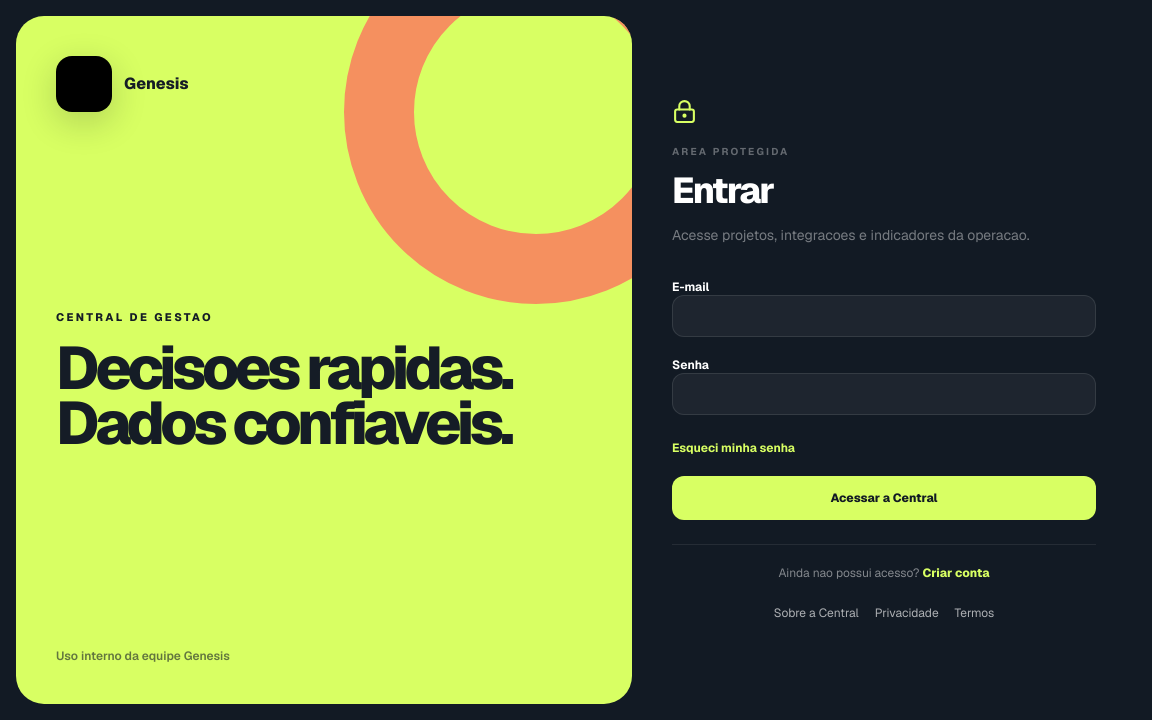
Test: password recovery request › displays delivery failures instead of claiming an email was sent
This screenshot has width=1152, height=720.
In the field labelled "E-mail": coordinates (884, 316) [672,295,1096,337], type "internal@example.com"
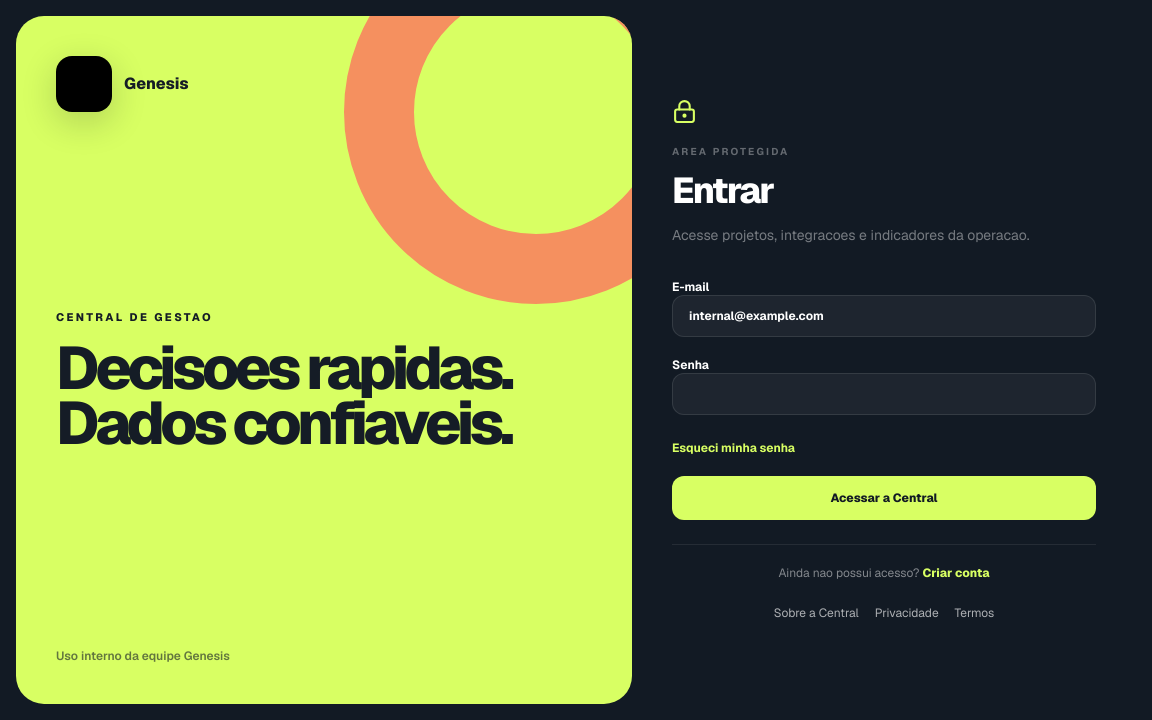
Click the button "Esqueci minha senha": coordinates (734, 448) [672,440,795,456]
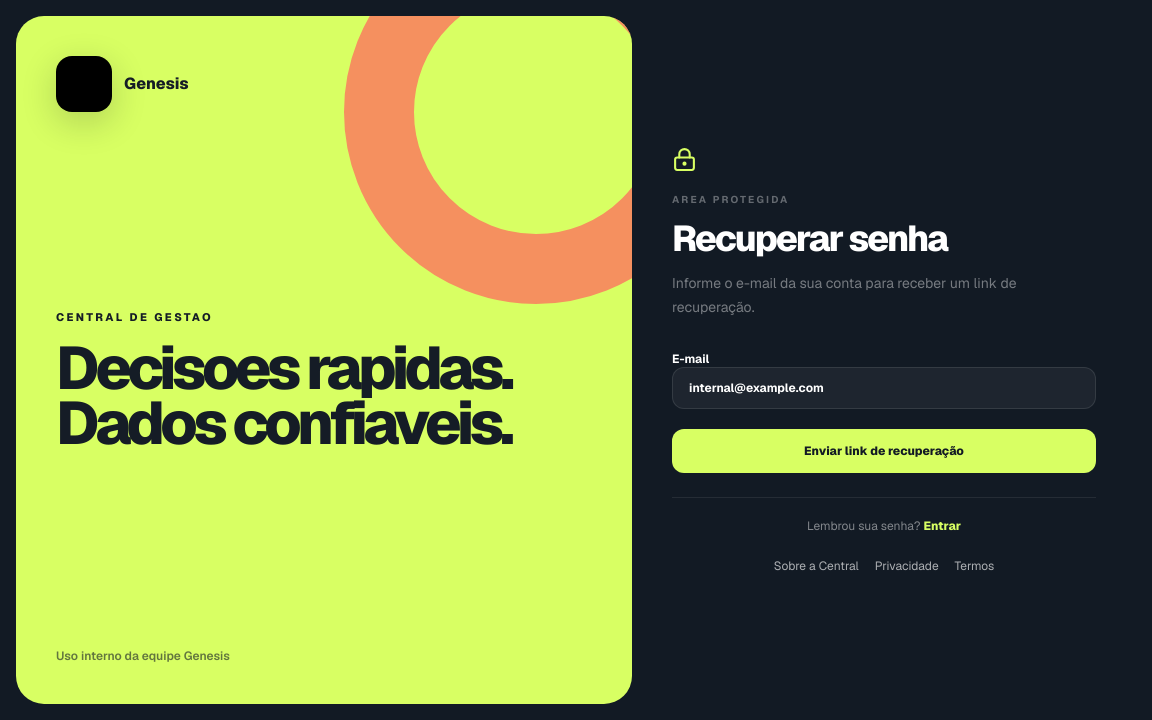
Click the button "Enviar link de recuperação": coordinates (884, 450) [672,428,1096,472]
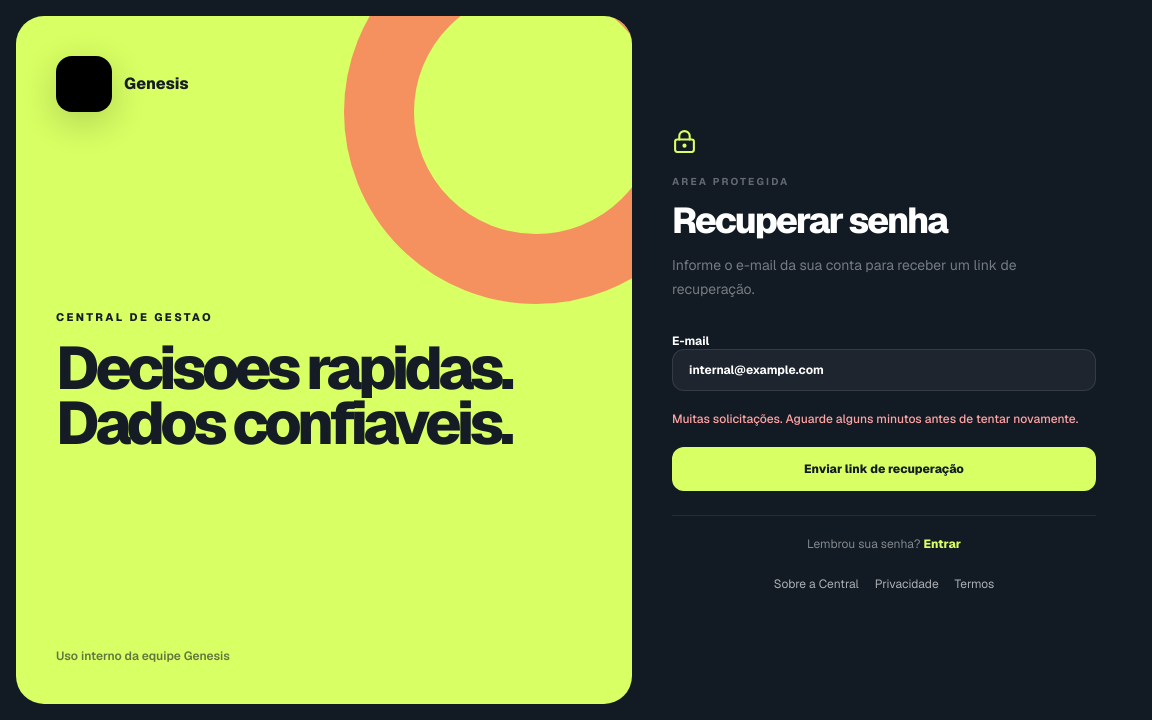
Check: the message shows "Muitas solicitações", box [672,410,1078,426]
